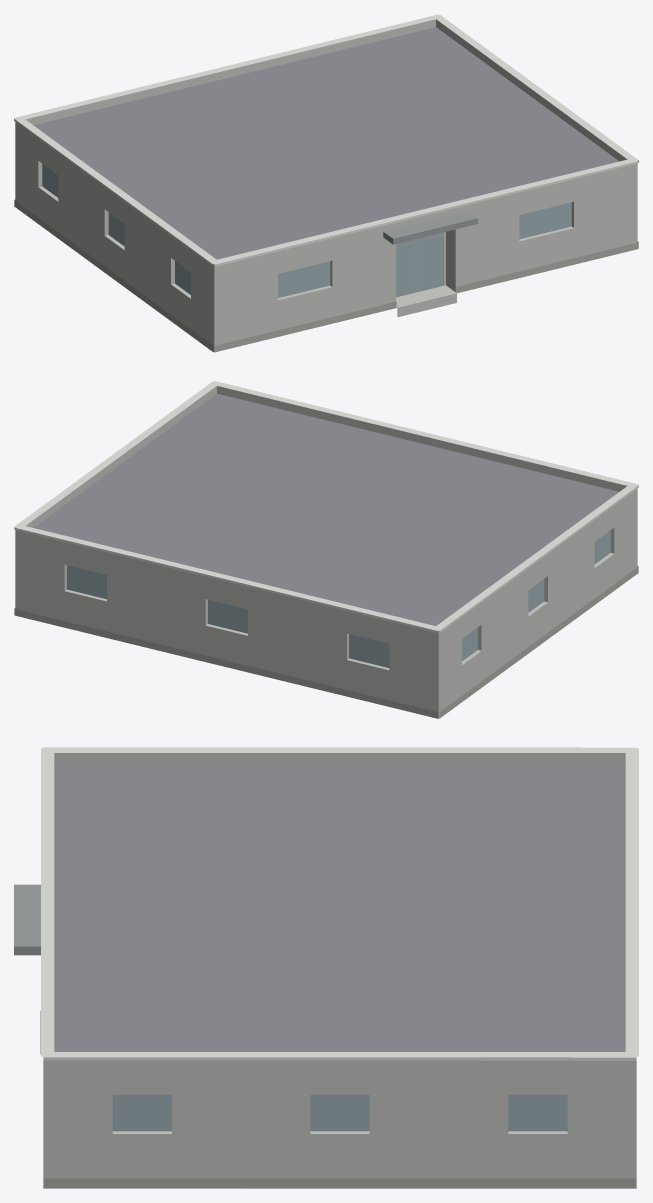
3 views of the same model, one above another, from view 1: azimuth 30°, elevation 25°; view 2: azimuth 150°, elevation 25°; view 3: azimuth 270°, elevation 25° (orthographic). The views are drawn at different scales.
Parts seen in each view (by area): view 1: b115951813__roof, b115951813__wall, b115951813__trim, b115951813__parapet, b115951813__glass, b115951813__base, b115951813__canopy, b115951813__entranceThreshold_0; view 2: b115951813__roof, b115951813__wall, b115951813__trim, b115951813__parapet, b115951813__base, b115951813__glass; view 3: b115951813__roof, b115951813__wall, b115951813__trim, b115951813__parapet, b115951813__glass, b115951813__base, b115951813__canopy.
Boxes of the visible parts, box(x1,y1,x2,y2) form: b115951813__roof: box(34, 27, 619, 352); b115951813__wall: box(15, 126, 637, 351); b115951813__trim: box(14, 14, 638, 266); b115951813__parapet: box(15, 19, 637, 271); b115951813__glass: box(42, 164, 571, 297); b115951813__base: box(14, 199, 638, 352); b115951813__canopy: box(383, 211, 478, 244); b115951813__entranceThreshold_0: box(396, 285, 456, 317); b115951813__roof: box(34, 393, 618, 718); b115951813__wall: box(15, 493, 637, 718); b115951813__trim: box(14, 381, 638, 632); b115951813__parapet: box(15, 386, 637, 638); b115951813__base: box(14, 566, 638, 718); b115951813__glass: box(67, 530, 610, 667); b115951813__roof: box(43, 764, 625, 1188); b115951813__wall: box(43, 1068, 636, 1178); b115951813__trim: box(41, 747, 638, 1060); b115951813__parapet: box(43, 753, 636, 1068); b115951813__glass: box(112, 1094, 567, 1131); b115951813__base: box(43, 1178, 636, 1188); b115951813__canopy: box(14, 884, 40, 955).
Size of the model in its own units: 20 by 4.35 by 17.04.
